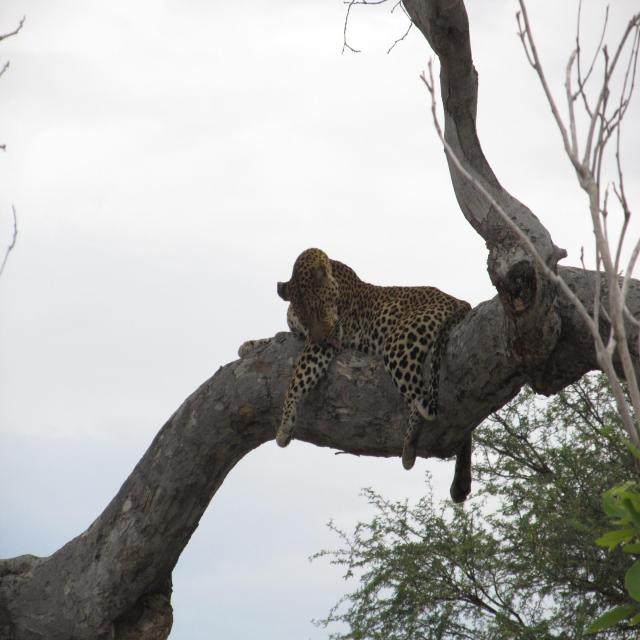Leopard: (233, 242, 472, 514)
